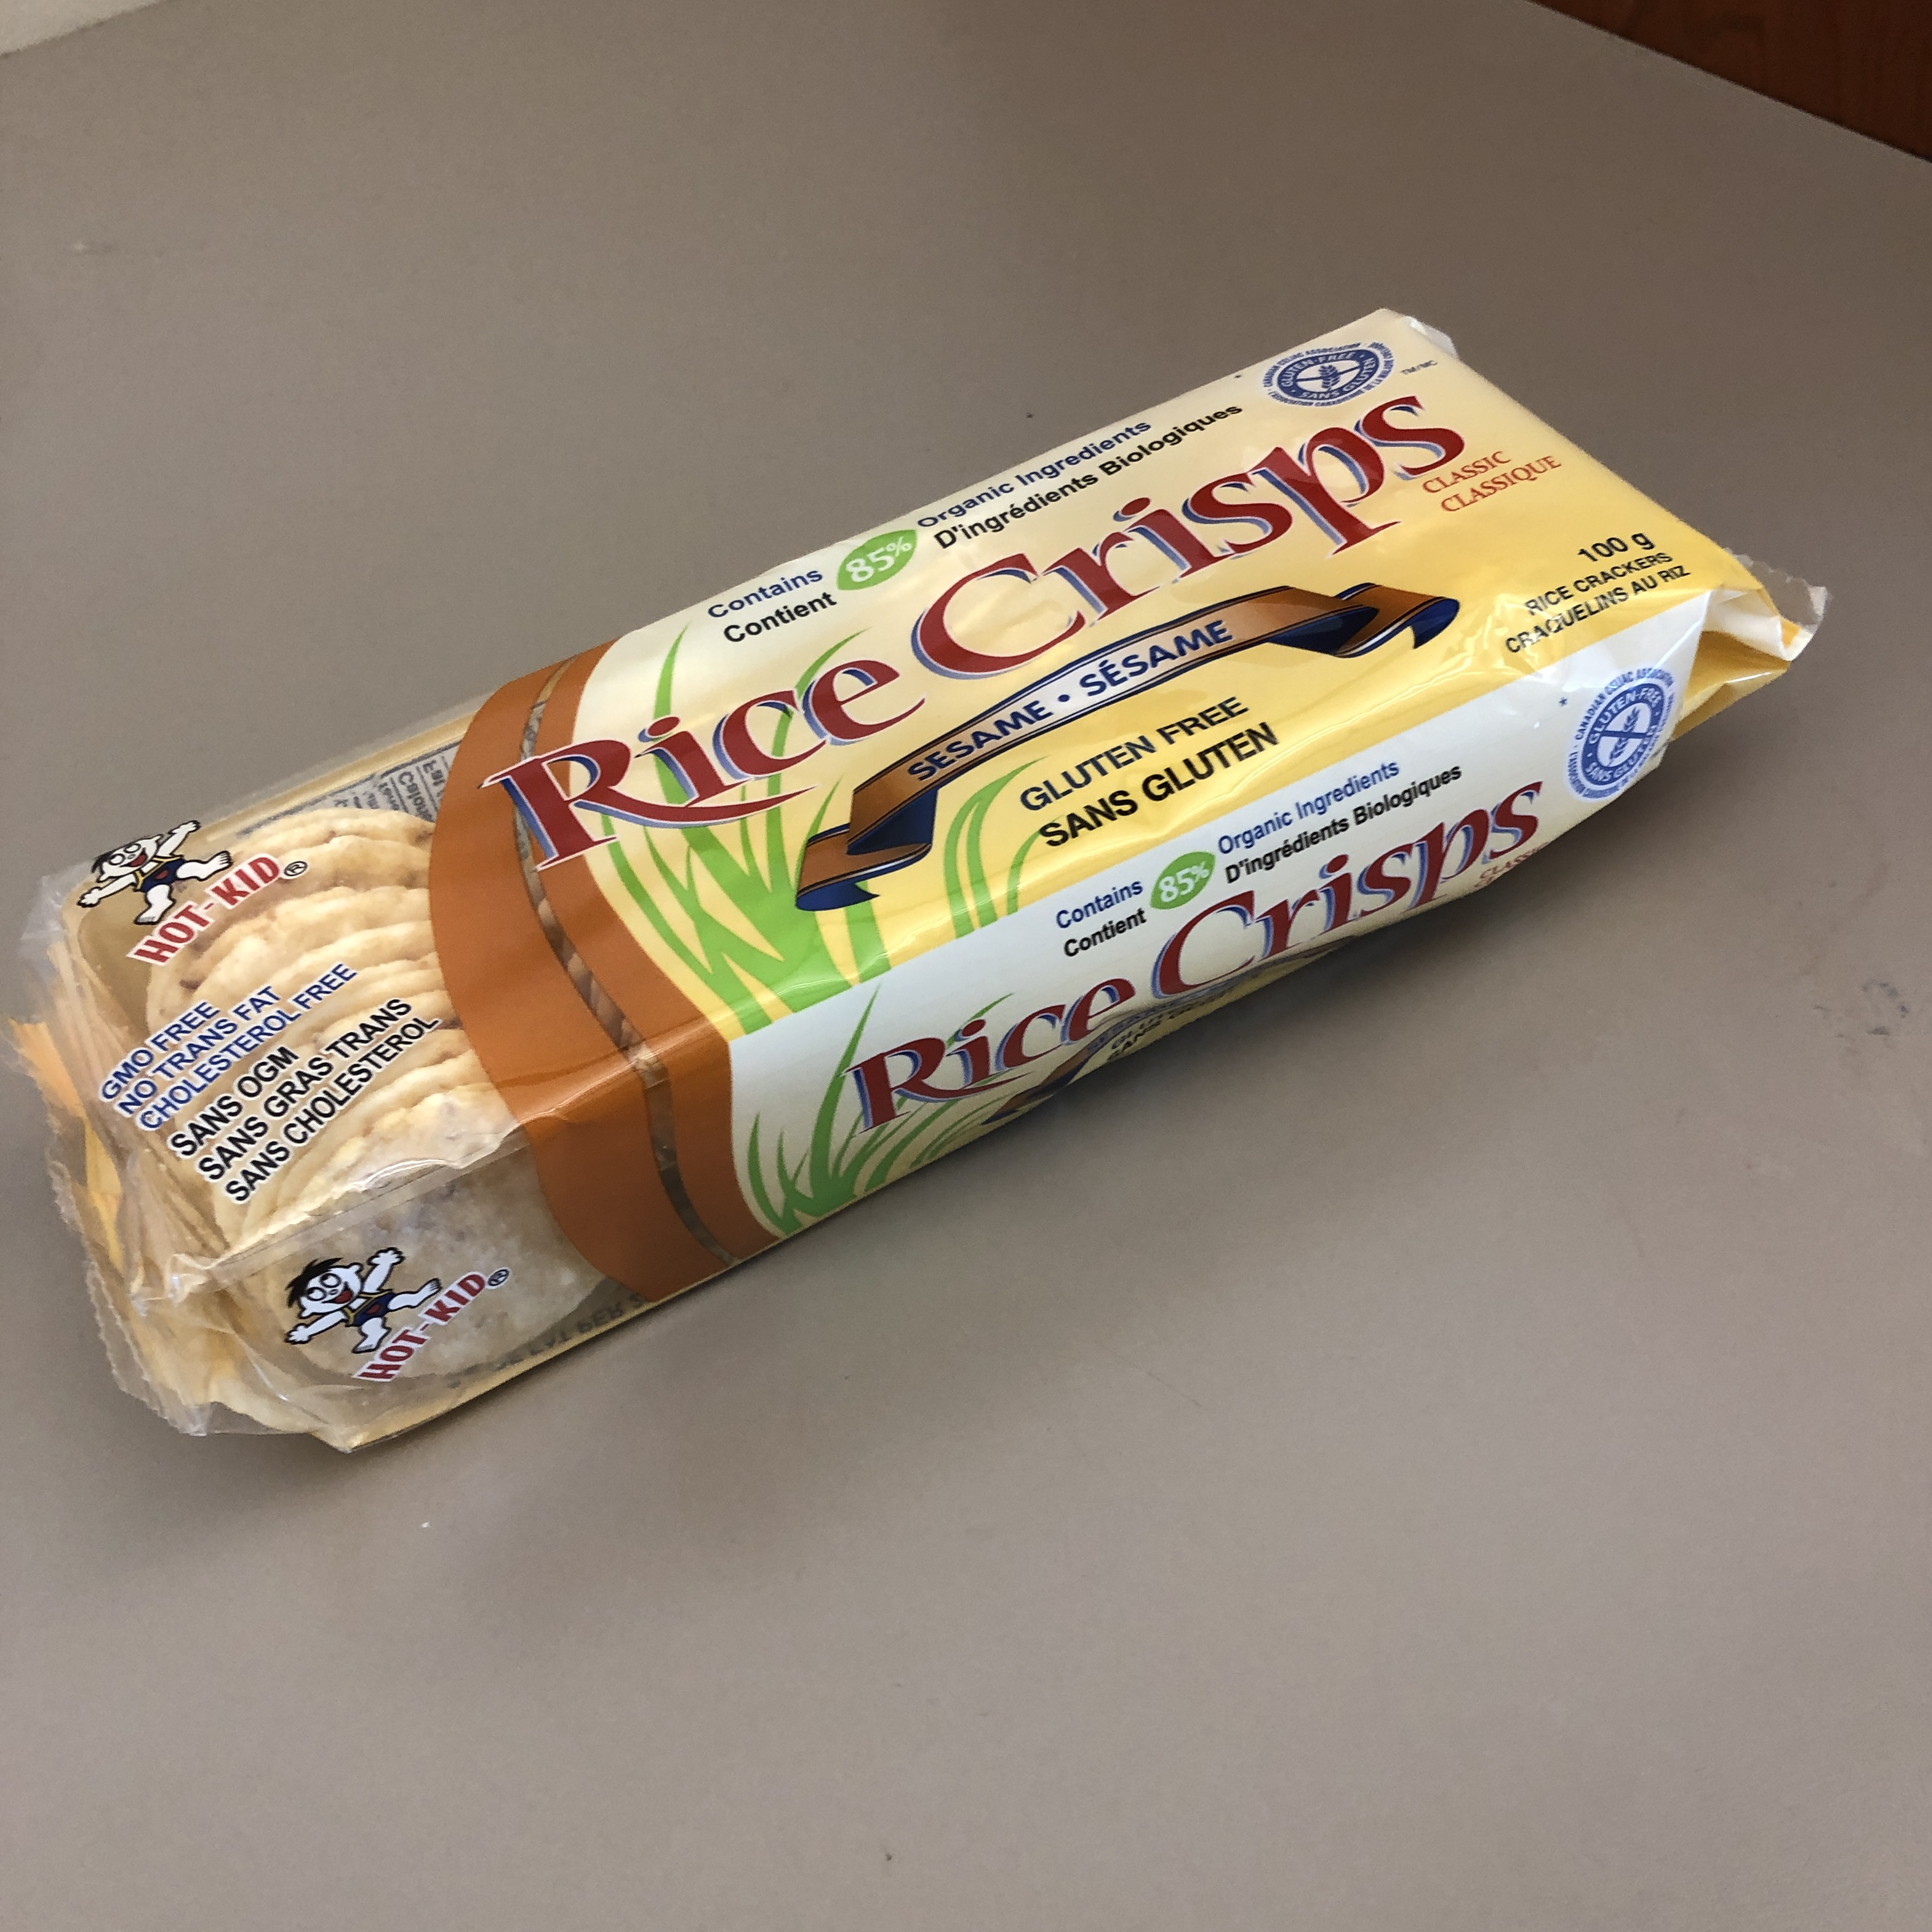hot_kid_rice_crisps_sesame: (382, 213, 1337, 1823)
